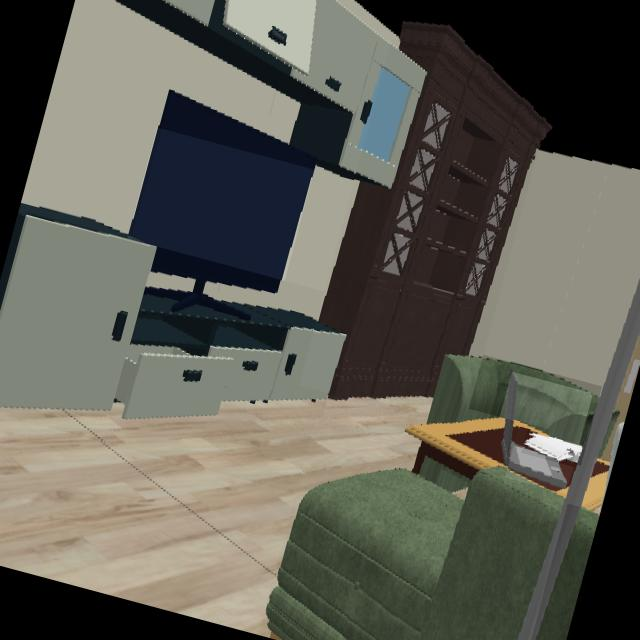book: (522, 434, 580, 463)
bookshelf: (316, 51, 544, 395)
cabinet: (0, 218, 344, 421), (158, 0, 426, 187)
laptop: (500, 371, 567, 490)
monitor: (128, 89, 317, 323)
sofa: (265, 466, 565, 640), (425, 356, 598, 446), (534, 507, 599, 640)
table: (403, 418, 507, 482), (580, 460, 607, 512), (511, 420, 546, 446)
